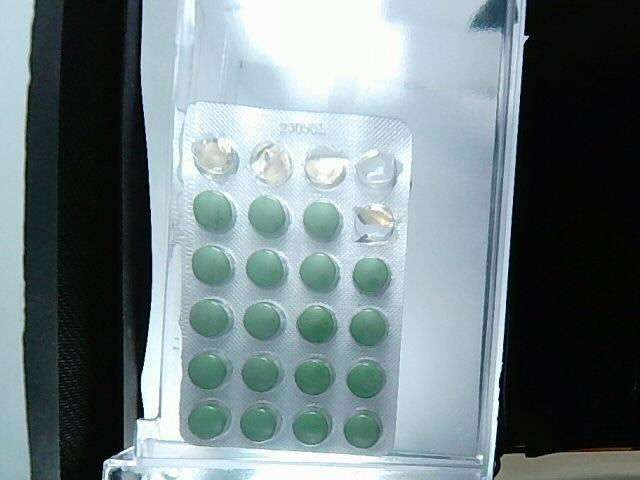Light Front: (174, 102, 414, 458)
No Pill Front: (191, 138, 237, 179), (250, 143, 292, 186), (305, 146, 348, 187), (354, 204, 396, 244), (356, 151, 399, 189)
Pill Front: (191, 245, 234, 285), (188, 400, 231, 440), (249, 195, 290, 236), (193, 191, 235, 231), (189, 299, 232, 337), (299, 253, 340, 292), (296, 304, 337, 343), (244, 301, 286, 339), (241, 354, 282, 392), (240, 404, 281, 442), (246, 250, 286, 288), (189, 353, 230, 389), (350, 308, 388, 346), (346, 360, 384, 398), (344, 410, 382, 448), (291, 408, 331, 444), (304, 201, 341, 239), (295, 359, 335, 394), (353, 258, 390, 293)
